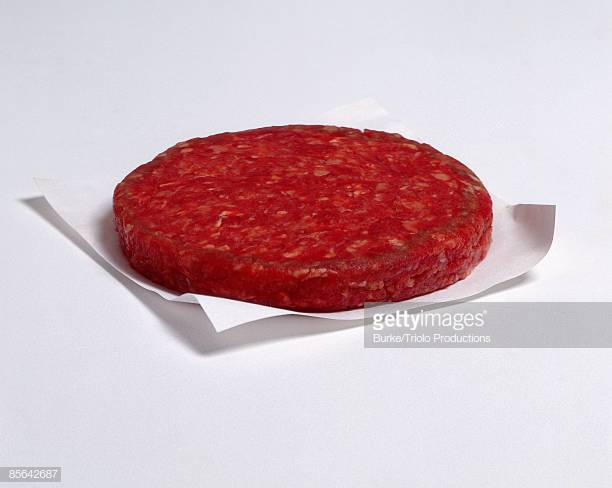ground_beef: (91, 121, 526, 340)
